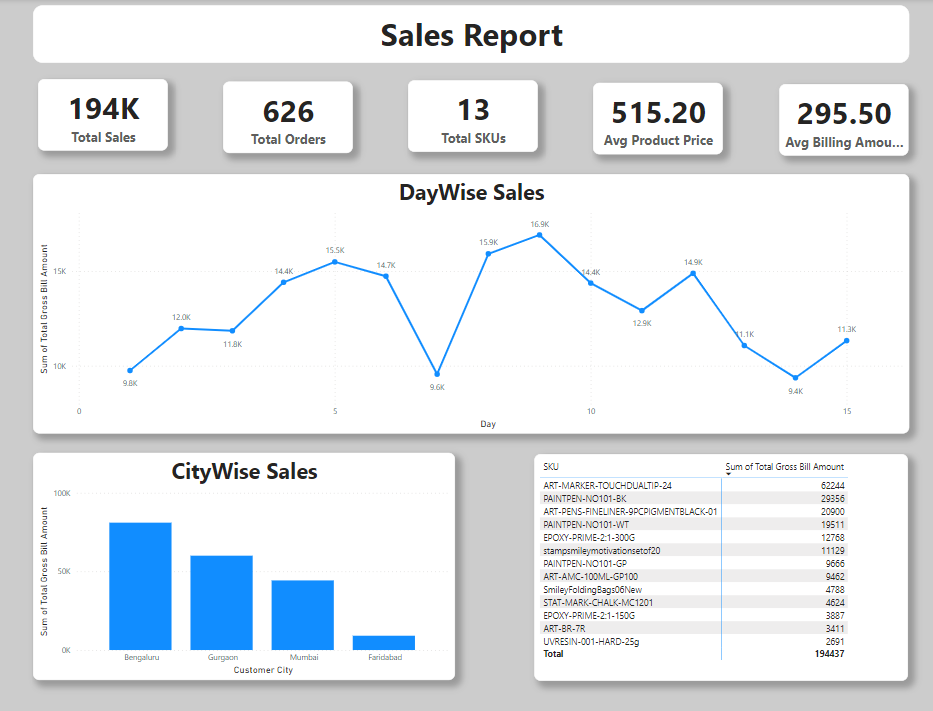

The dashboard page shown, as its layout file describes it:
{"tool":"powerbi","page":{"name":"Page 1","canvas":[1560,1150],"ordinal":0},"visuals":[{"type":"card","fields":{"Values":["Sum(Sales Summary Information.Total Gross Bill Amount)"]},"box":[107.4,123,200,110],"z":0},{"type":"card","fields":{"Values":["Count(Sales Summary Information.Order ID)"]},"box":[392.9,126.9,200,110],"z":1000},{"type":"lineChart","title":"DayWise Sales","fields":{"Category":["Sales Summary Information.Order Date.Variation.Date Hierarchy.Day"],"Y":["Sum(Sales Summary Information.Total Gross Bill Amount)"]},"box":[100,270,1350,400],"z":2000},{"type":"pivotTable","fields":{"Rows":["ItemID-SKU Mapping.SKU"],"Values":["Sum(Sales Summary Information.Total Gross Bill Amount)"]},"box":[872.8,700.9,576,349.5],"z":3000},{"type":"columnChart","title":"CityWise Sales","fields":{"Category":["Sales Summary Information.Customer City "],"Y":["Sum(Sales Summary Information.Total Gross Bill Amount)"]},"box":[100,700,650,350],"z":4000},{"type":"textbox","box":[100.2,9.6,1350.3,88.6],"z":5000},{"type":"card","fields":{"Values":["Count(Sales Summary Information.Product Name)"]},"box":[678.5,125,200,110],"z":6000},{"type":"card","fields":{"Values":["Avg(Sales Summary Information.MRP (Rs))"]},"box":[964,128.9,200,110],"z":7000},{"type":"card","fields":{"Values":["Avg(Sales Summary Information.Total Gross Bill Amount)"]},"box":[1249.6,130.8,199.2,110],"z":8000}]}

Visuals, with their boxes on the page's 1560x1150 design canvas (x1, y1, x2, y2). These are canvas units, not pixel positions in the 933x711 screenshot, which may show the page scaled, cropped or inside an application window:
card - Sum(Sales Summary Information.Total Gross Bill Amount): {"x1": 107, "y1": 123, "x2": 307, "y2": 233}
card - Count(Sales Summary Information.Order ID): {"x1": 393, "y1": 127, "x2": 593, "y2": 237}
"DayWise Sales" lineChart: {"x1": 100, "y1": 270, "x2": 1450, "y2": 670}
pivotTable - ItemID-SKU Mapping.SKU x Sum(Sales Summary Information.Total Gross Bill Amount): {"x1": 873, "y1": 701, "x2": 1449, "y2": 1050}
"CityWise Sales" columnChart: {"x1": 100, "y1": 700, "x2": 750, "y2": 1050}
textbox: {"x1": 100, "y1": 10, "x2": 1450, "y2": 98}
card - Count(Sales Summary Information.Product Name): {"x1": 678, "y1": 125, "x2": 878, "y2": 235}
card - Avg(Sales Summary Information.MRP (Rs)): {"x1": 964, "y1": 129, "x2": 1164, "y2": 239}
card - Avg(Sales Summary Information.Total Gross Bill Amount): {"x1": 1250, "y1": 131, "x2": 1449, "y2": 241}
